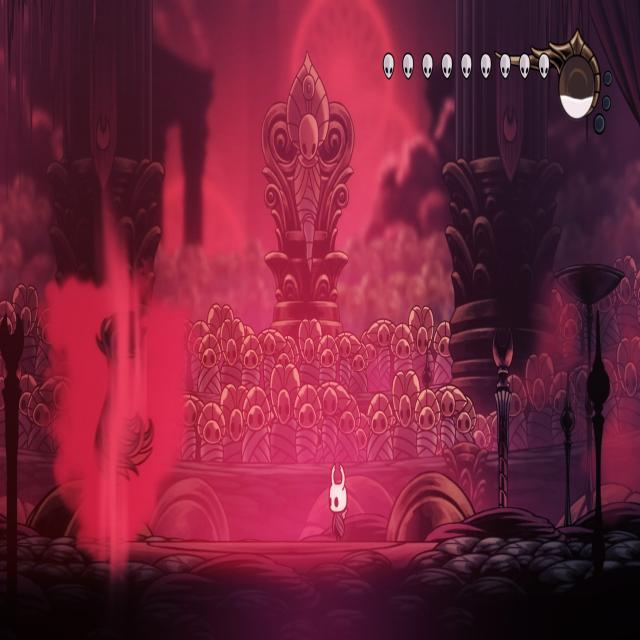Grimm: (90, 299, 158, 545)
Player: (326, 459, 348, 544)
